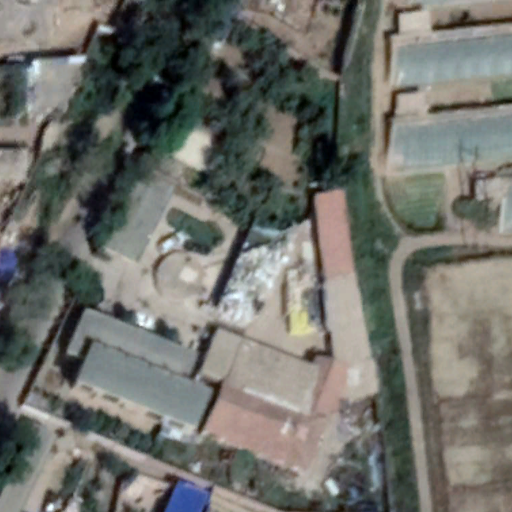msw: (221, 239, 291, 331)
